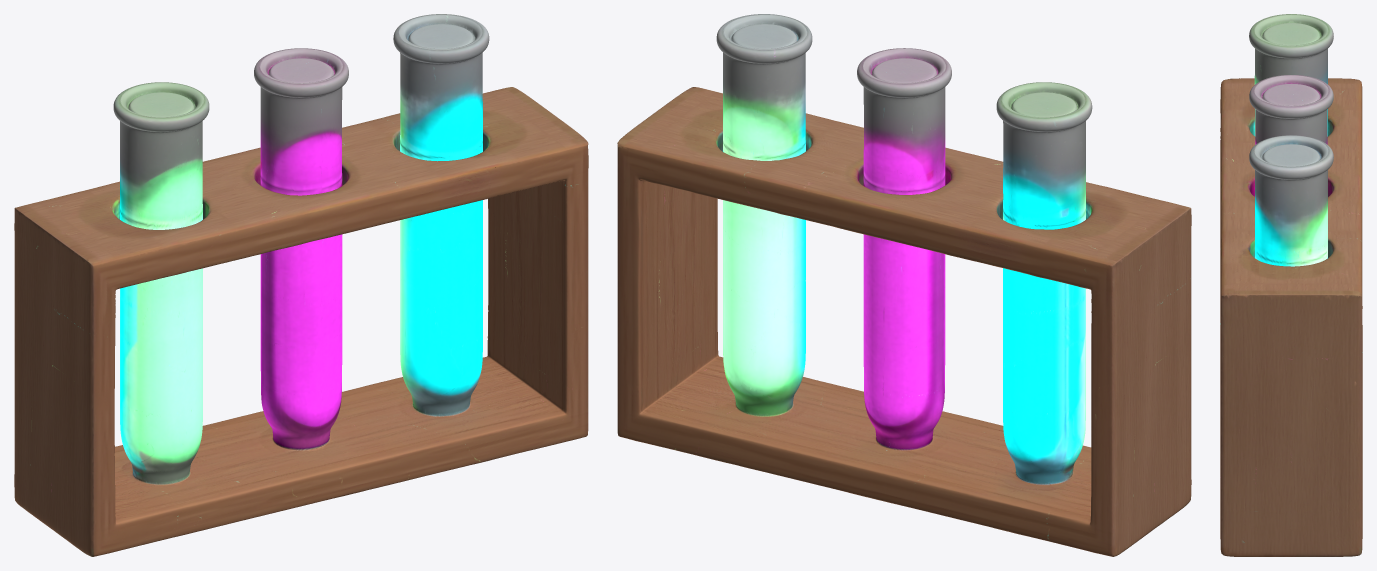
The model's file is accessories_set_6_item_17.glb.
The picture shows the model from 3 angles, left to right: view 1: azimuth 30°, elevation 25°; view 2: azimuth 150°, elevation 25°; view 3: azimuth 270°, elevation 25°; orthographic projection. The views are drawn at different scales.
Size of the model in its own units: 1.9 by 1.47 by 0.5261.
Materials: 1 (1 with a texture image).
